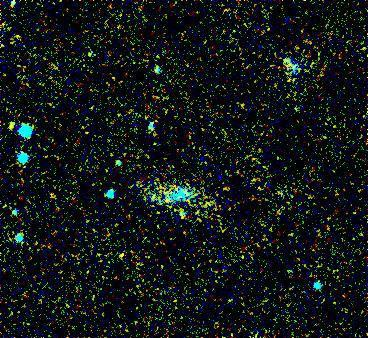star: (0, 109, 25, 139)
